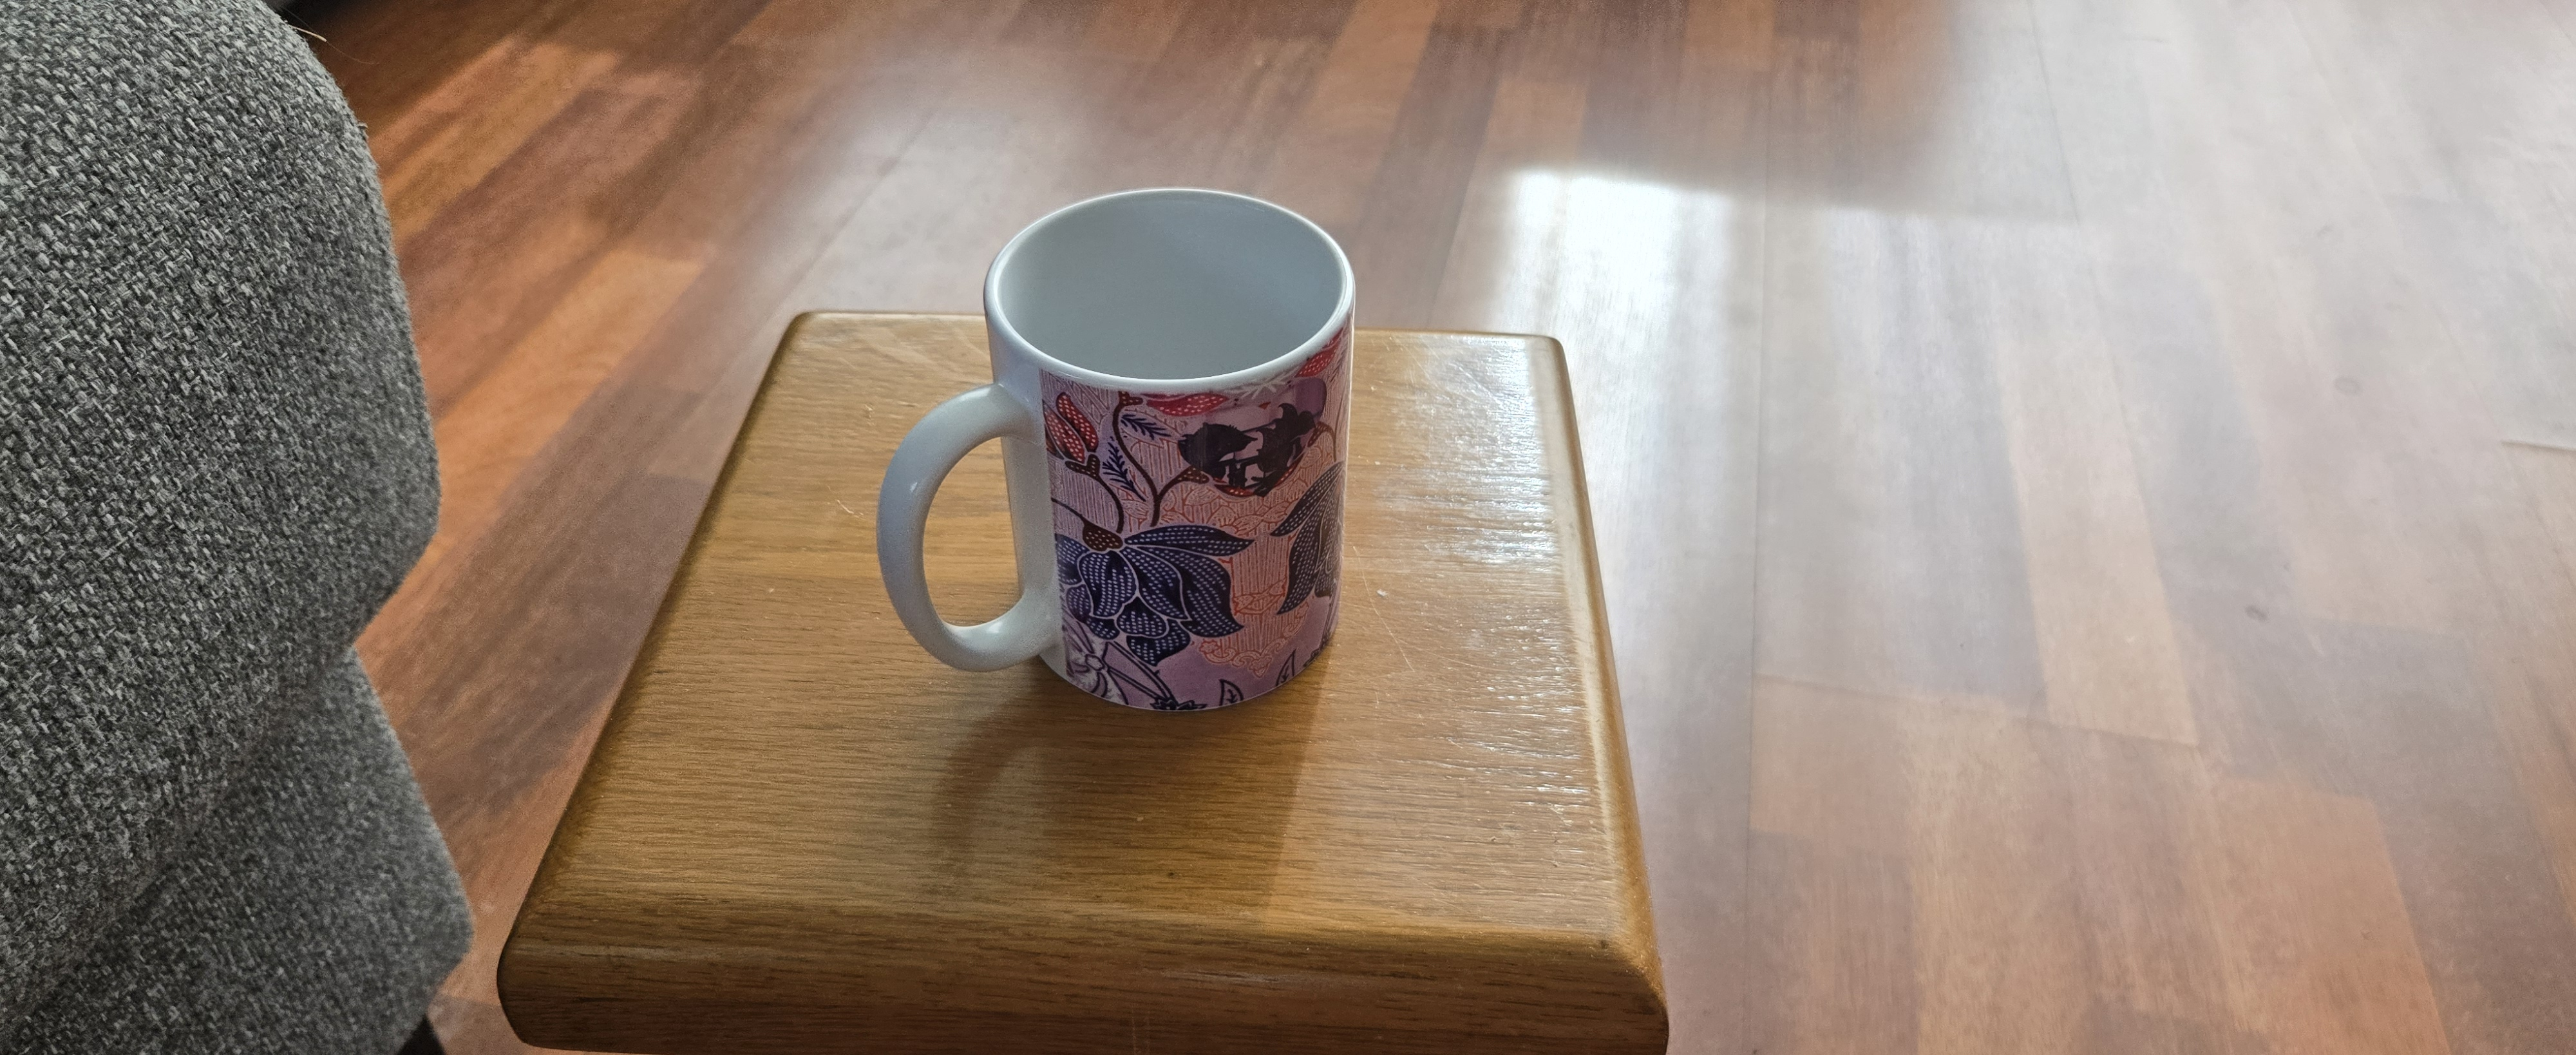mug: (810, 127, 1439, 815)
